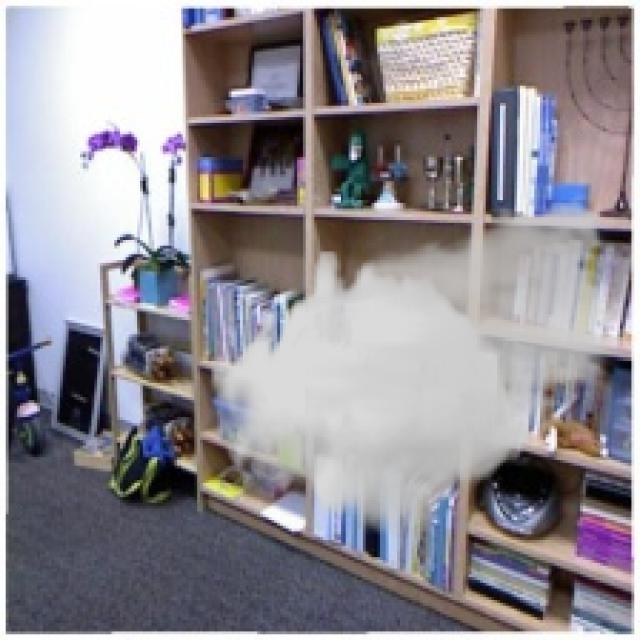smoke: (208, 186, 628, 534)
